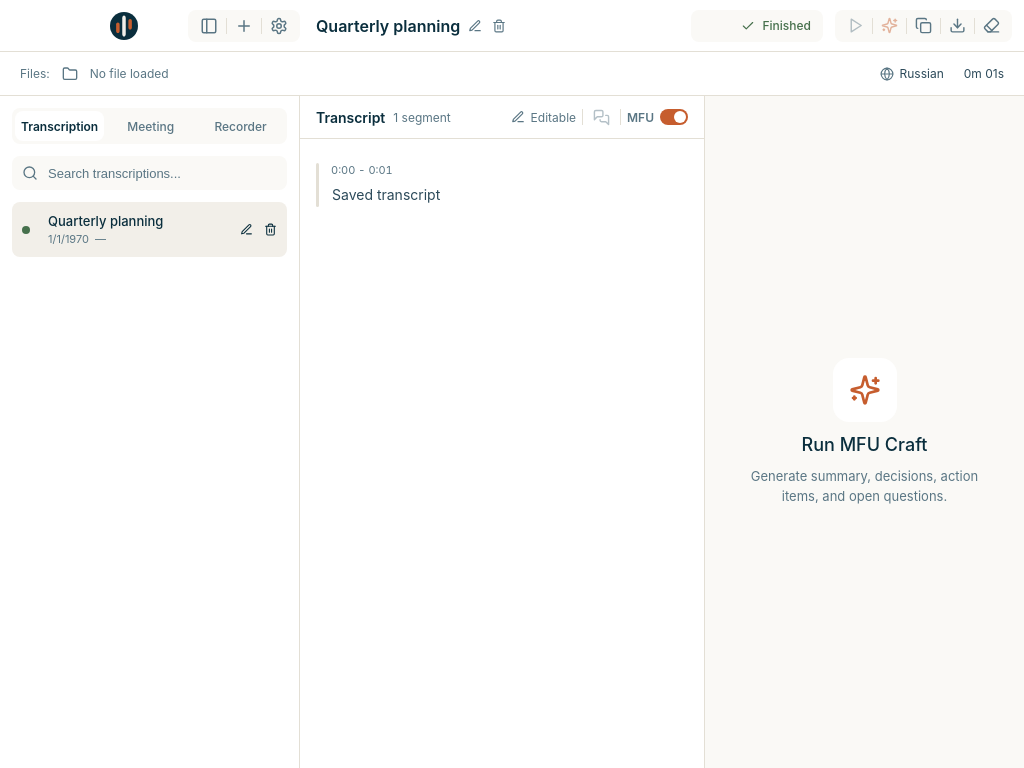
Scenario: App — IPC failures surface as errors without breaking the workspace › reports a rename that the store rejects
Expected: the heading "Quarterly planning" is shown, [316,16,460,36]
Click the button named "Rename transcription".
click(475, 26)  # box [466,16,484,34]
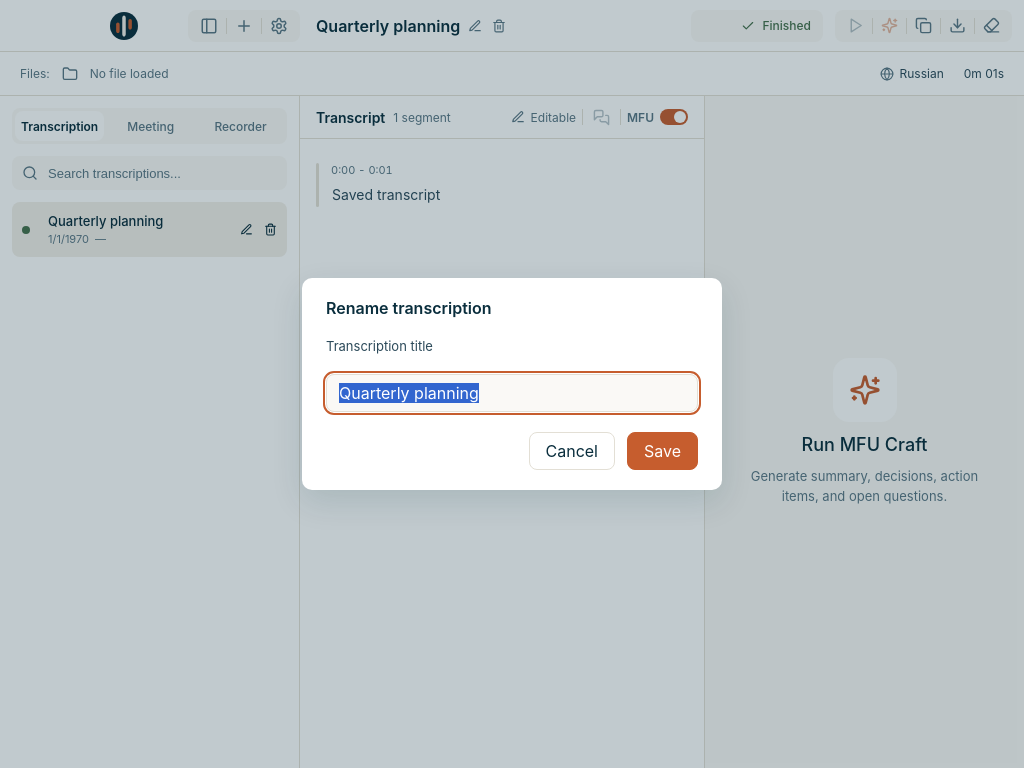
Replace the text in the field labelled "Transcription title" with "Renamed" at (512, 393), box [326,374,698,412]
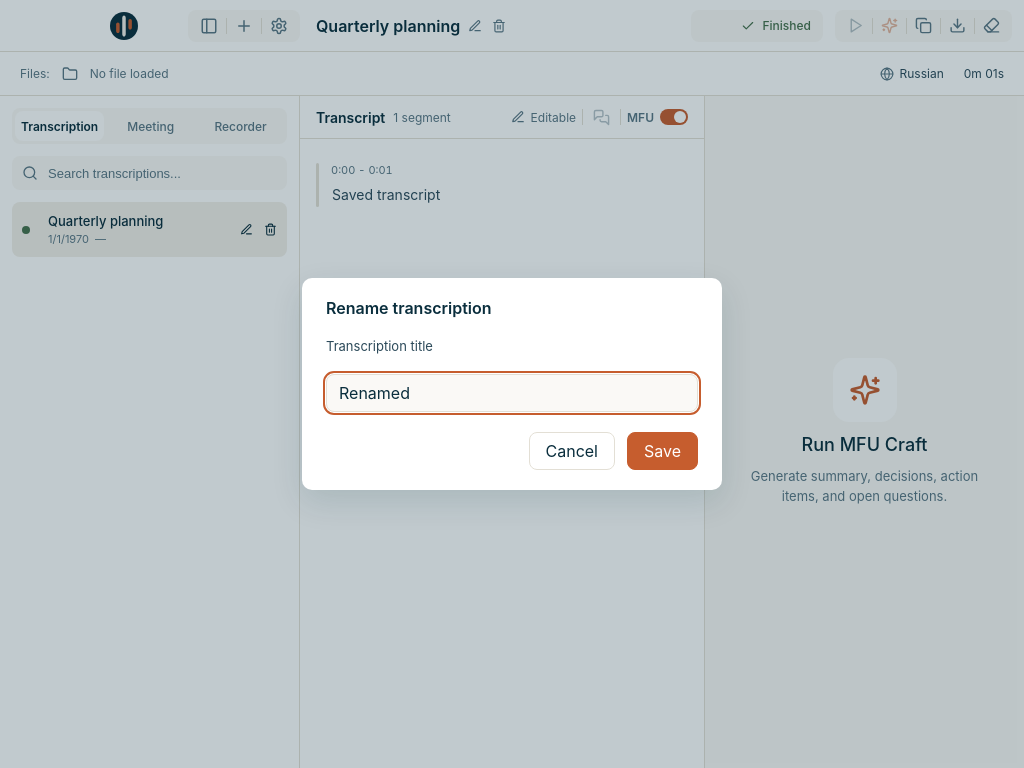
Click the button "Save".
click(662, 451)  # box [627,432,698,470]
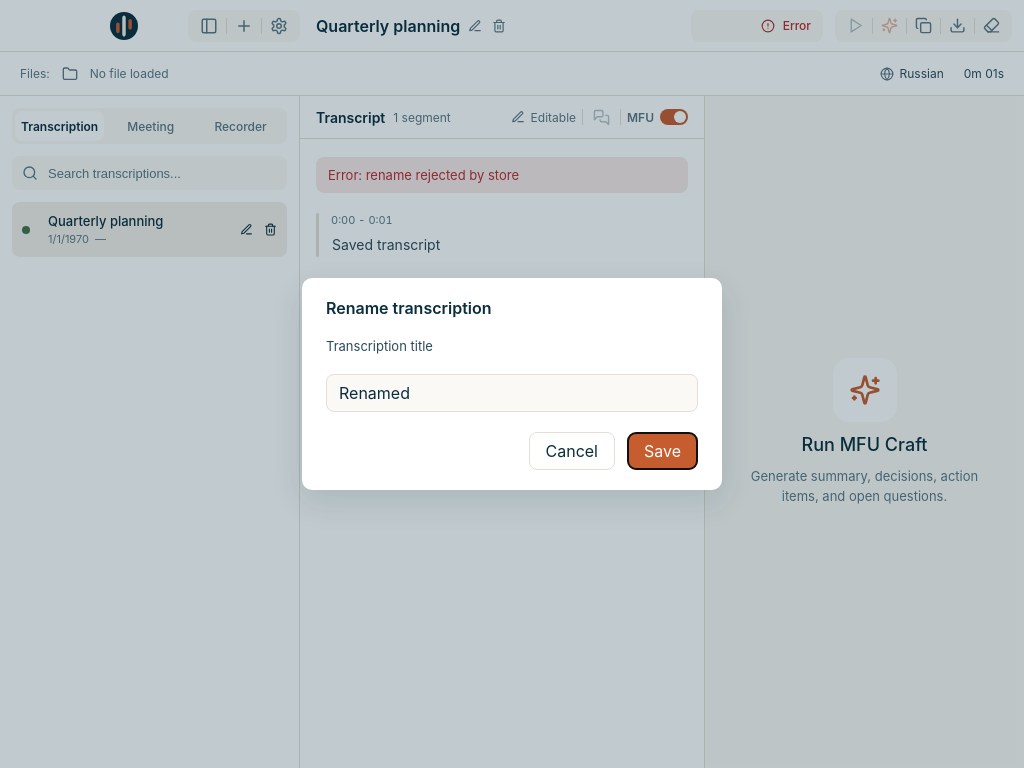
Expected: the text "Error: rename rejected by store" is shown, [316,157,688,193]
